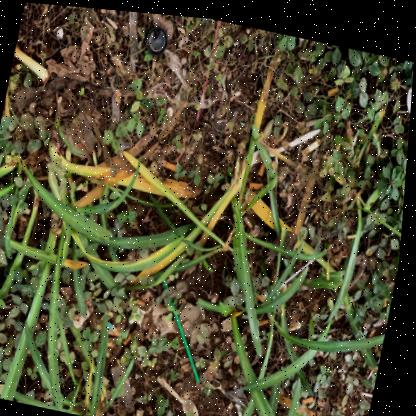Paper: (46, 14, 96, 80)
Plastic: (166, 274, 205, 378), (144, 146, 186, 221), (196, 15, 221, 115), (266, 252, 318, 291), (162, 371, 204, 413), (116, 360, 142, 408), (231, 380, 254, 416), (165, 45, 184, 78), (129, 9, 138, 59), (171, 275, 191, 292), (372, 347, 385, 371), (156, 296, 173, 310), (120, 133, 131, 153), (201, 338, 215, 352), (112, 316, 124, 331), (367, 384, 378, 389)
Waste: (146, 22, 168, 52), (112, 92, 121, 126), (164, 157, 178, 167), (408, 76, 413, 104), (127, 327, 136, 342), (246, 209, 256, 222), (328, 79, 339, 90), (259, 156, 267, 169), (252, 176, 265, 183), (308, 390, 319, 398), (141, 294, 150, 302)
